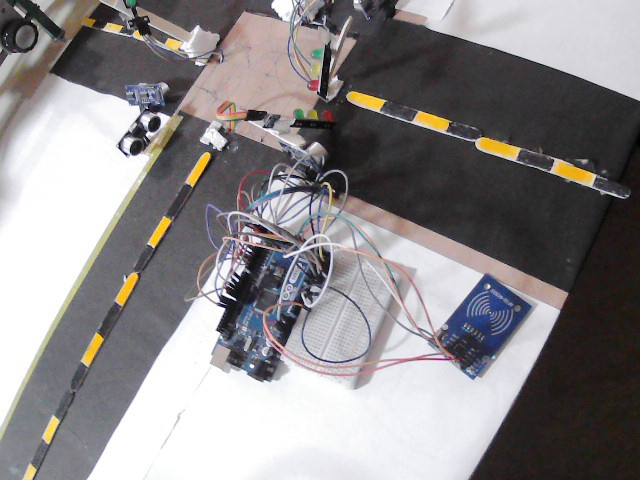black_strip: (166, 183, 193, 218), (516, 147, 555, 171), (594, 177, 630, 201), (377, 99, 415, 120), (98, 303, 120, 336), (444, 120, 480, 138), (134, 245, 154, 273), (30, 438, 49, 467), (69, 362, 86, 393), (57, 393, 72, 419), (90, 20, 109, 32), (150, 35, 166, 44), (119, 26, 135, 33)
mixed_lane: (21, 147, 210, 480), (337, 86, 632, 202), (75, 13, 185, 51)
traffic_light: (273, 102, 347, 131), (300, 42, 327, 96)
uno_breadboard: (288, 254, 408, 389), (209, 239, 321, 382), (428, 273, 537, 377), (113, 105, 162, 159), (289, 159, 340, 193), (123, 83, 173, 106), (351, 0, 393, 21)
yellow_strip: (477, 132, 517, 159), (184, 150, 214, 186), (552, 161, 594, 186), (412, 108, 451, 132), (148, 213, 171, 245), (116, 273, 139, 305), (348, 90, 384, 110), (40, 414, 64, 441), (82, 333, 102, 363), (162, 36, 181, 51), (21, 465, 38, 480), (104, 21, 119, 33), (80, 15, 93, 26), (133, 29, 142, 39)
